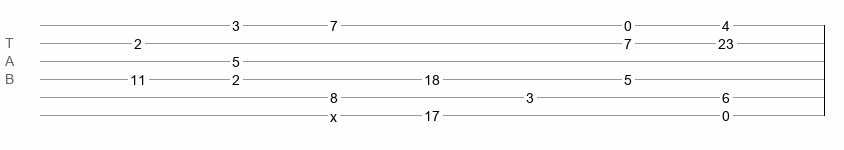0: (624, 18, 632, 28), (722, 108, 730, 118)
11: (130, 72, 146, 82)
17: (424, 108, 440, 118)
18: (424, 72, 440, 82)
2: (134, 36, 142, 46), (232, 72, 240, 82)
23: (718, 36, 734, 46)
3: (232, 18, 240, 28), (526, 90, 534, 100)
4: (722, 18, 730, 28)
5: (232, 54, 240, 64), (624, 72, 632, 82)
6: (722, 90, 730, 100)
7: (330, 18, 338, 28), (624, 36, 632, 46)
8: (330, 90, 338, 100)
x: (330, 109, 337, 117)
